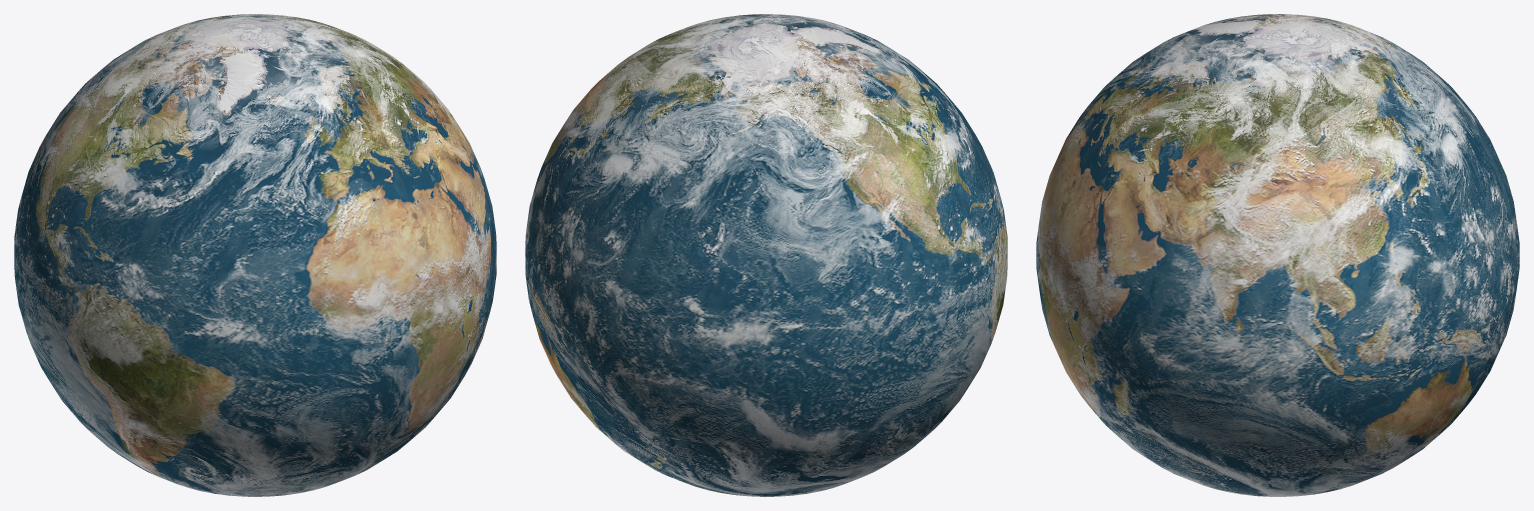
The model's file is planet.FBX.
3 views of the same model, side by side, from view 1: azimuth 30°, elevation 25°; view 2: azimuth 150°, elevation 25°; view 3: azimuth 270°, elevation 25° (orthographic).
Parts seen in each view (by area): view 1: planet; view 2: planet; view 3: planet.
Boxes of the visible parts, x1,y1,x2,y2 form: planet: (14,14,496,496); planet: (525,14,1007,496); planet: (1036,14,1519,496).
Bounding box in the file's own units: 1.99 × 2 × 2.
